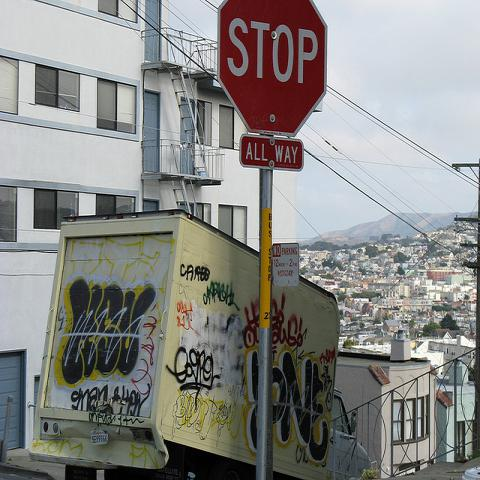truck: (25, 207, 374, 479)
